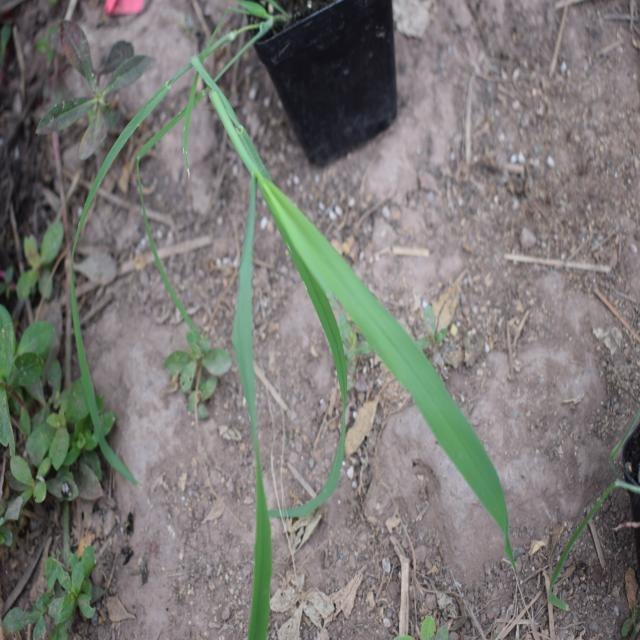crabgrass: (205, 153, 510, 570)
